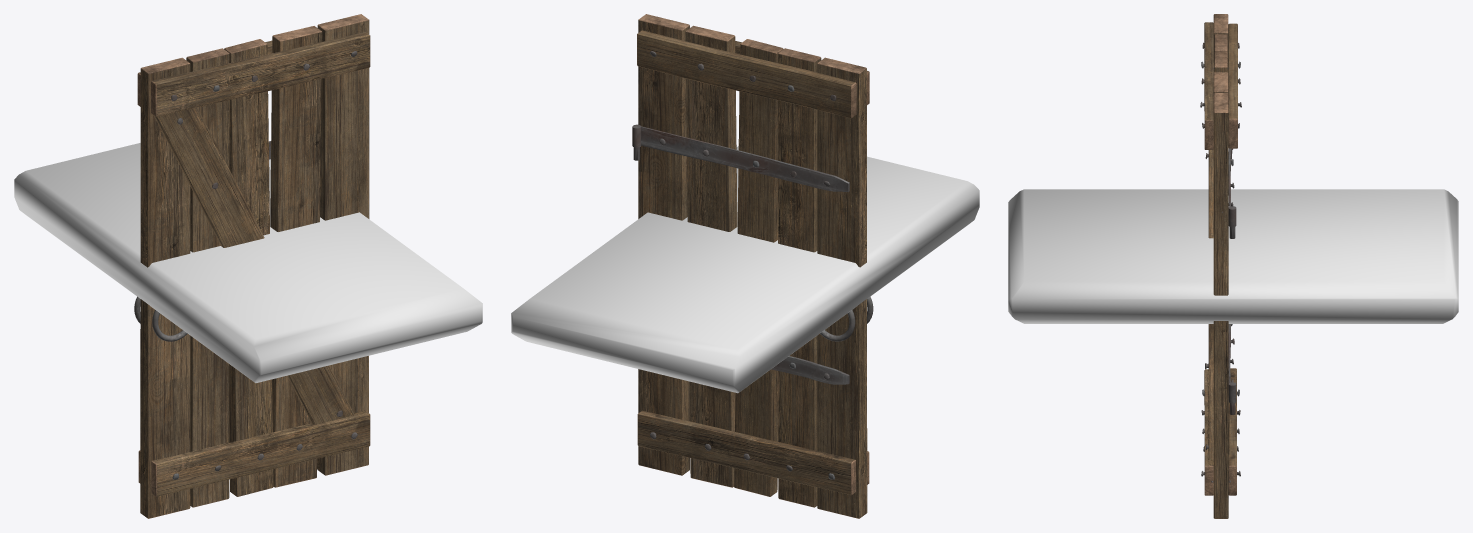
File: SM_DoorWay_P04_.fbx
3 views of the same model, side by side, from view 1: azimuth 30°, elevation 25°; view 2: azimuth 150°, elevation 25°; view 3: azimuth 270°, elevation 25° (orthographic). The views are drawn at different scales.
Visible parts, largest first — view 1: SM_DoorWay_P04_, SM_DoorWay_P04__ConvexHulls; view 2: SM_DoorWay_P04_, SM_DoorWay_P04__ConvexHulls; view 3: SM_DoorWay_P04__ConvexHulls, SM_DoorWay_P04_.
Boxes of the visible parts, x1,y1,x2,y2 form: SM_DoorWay_P04_: [134, 14, 370, 518]; SM_DoorWay_P04__ConvexHulls: [14, 143, 482, 382]; SM_DoorWay_P04_: [632, 14, 873, 518]; SM_DoorWay_P04__ConvexHulls: [511, 146, 979, 393]; SM_DoorWay_P04__ConvexHulls: [1008, 189, 1458, 323]; SM_DoorWay_P04_: [1200, 14, 1241, 518].
Size of the model in its own units: 1.34 by 2.53 by 2.54.
